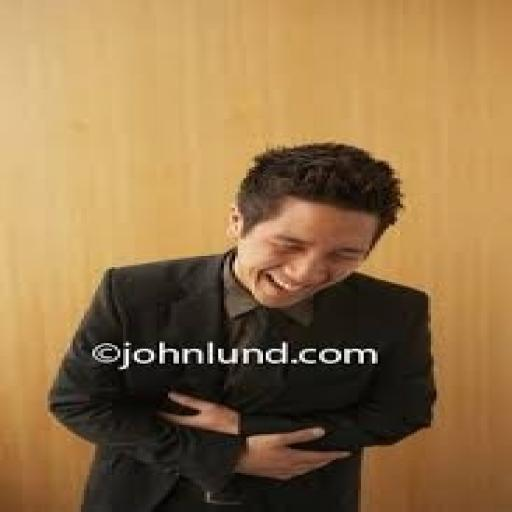laughing: (42, 134, 448, 508)
